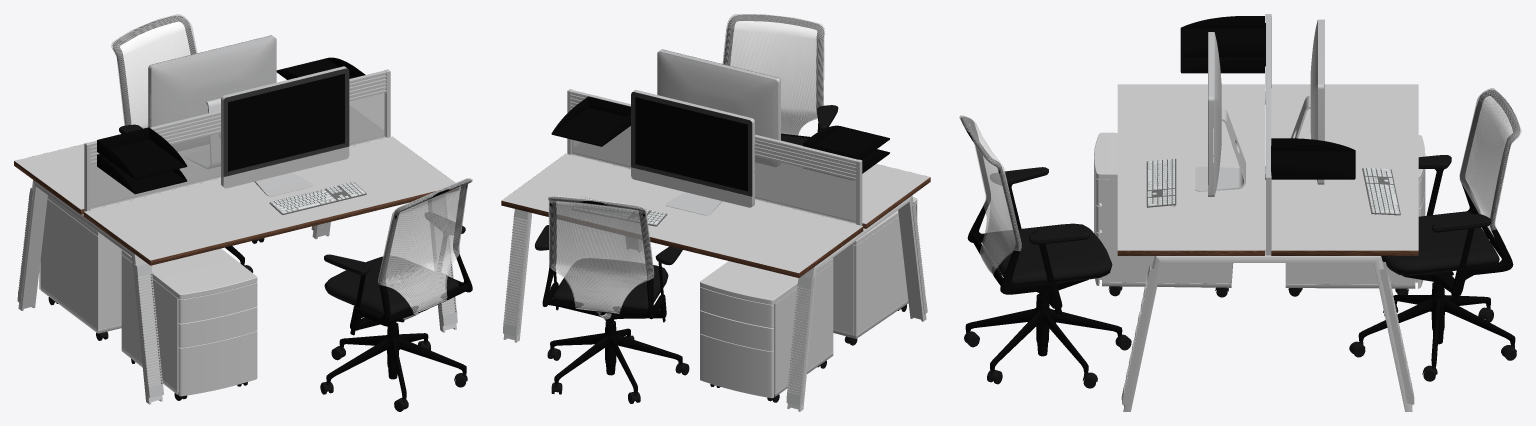
File: Table_ver1.glb
3 views of the same model, side by side, from view 1: azimuth 30°, elevation 25°; view 2: azimuth 150°, elevation 25°; view 3: azimuth 270°, elevation 25° (orthographic). The views are drawn at different scales.
Parts seen in each view (by area): view 1: archmodels_110_014_obj_03; view 2: archmodels_110_014_obj_03; view 3: archmodels_110_014_obj_03.
Boxes of the visible parts, left/top/right/bottom form: archmodels_110_014_obj_03: left=14, top=14, right=472, bottom=411; archmodels_110_014_obj_03: left=501, top=14, right=930, bottom=411; archmodels_110_014_obj_03: left=959, top=14, right=1521, bottom=411.
Bounding box in the file's own units: 1.6 × 1.24 × 2.29.
Materials: 10 (3 with a texture image).
